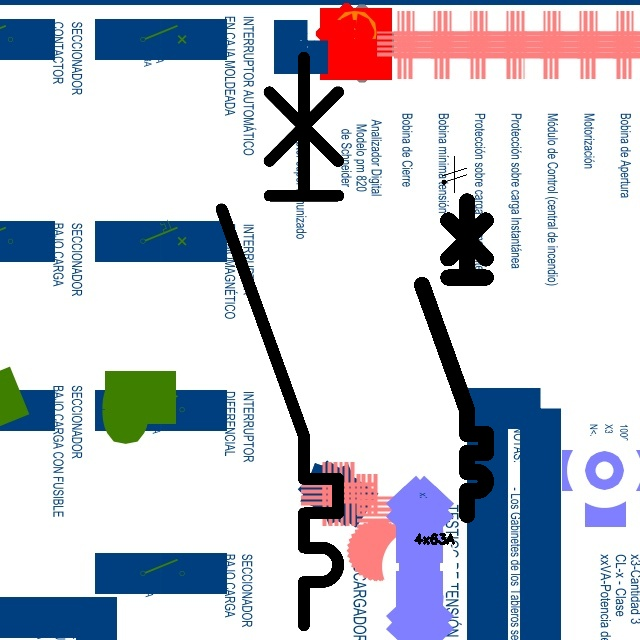interruptor_termomagnetico: (207, 43, 353, 640), (414, 193, 494, 522)
